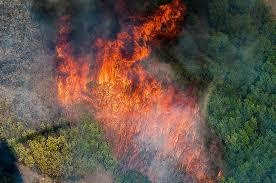fire: (50, 3, 213, 171)
